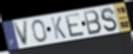B: (82, 9, 103, 36)
E: (63, 12, 86, 39)
K: (50, 15, 68, 40)
O: (31, 19, 48, 43)
S: (100, 7, 118, 33)
V: (13, 20, 29, 48)
